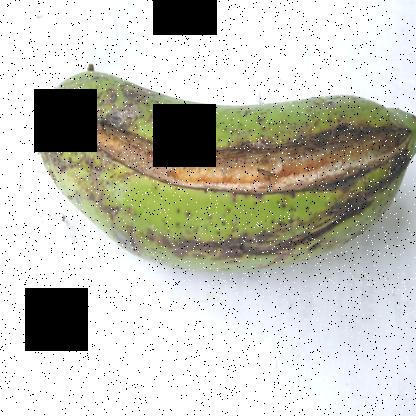rotten: (30, 92, 415, 235)
